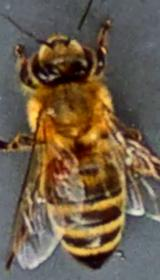varroa_mite: (44, 154, 72, 182)
